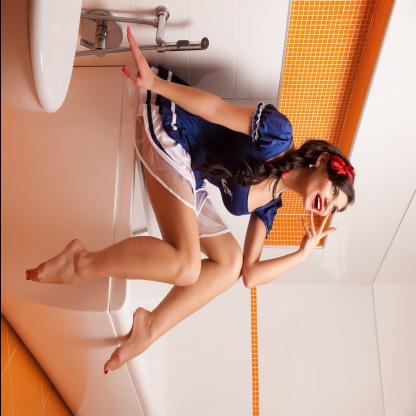Eye: (330, 183, 335, 197), (328, 204, 334, 213)
Mouth: (311, 193, 322, 211)
Nose: (323, 198, 334, 210)
